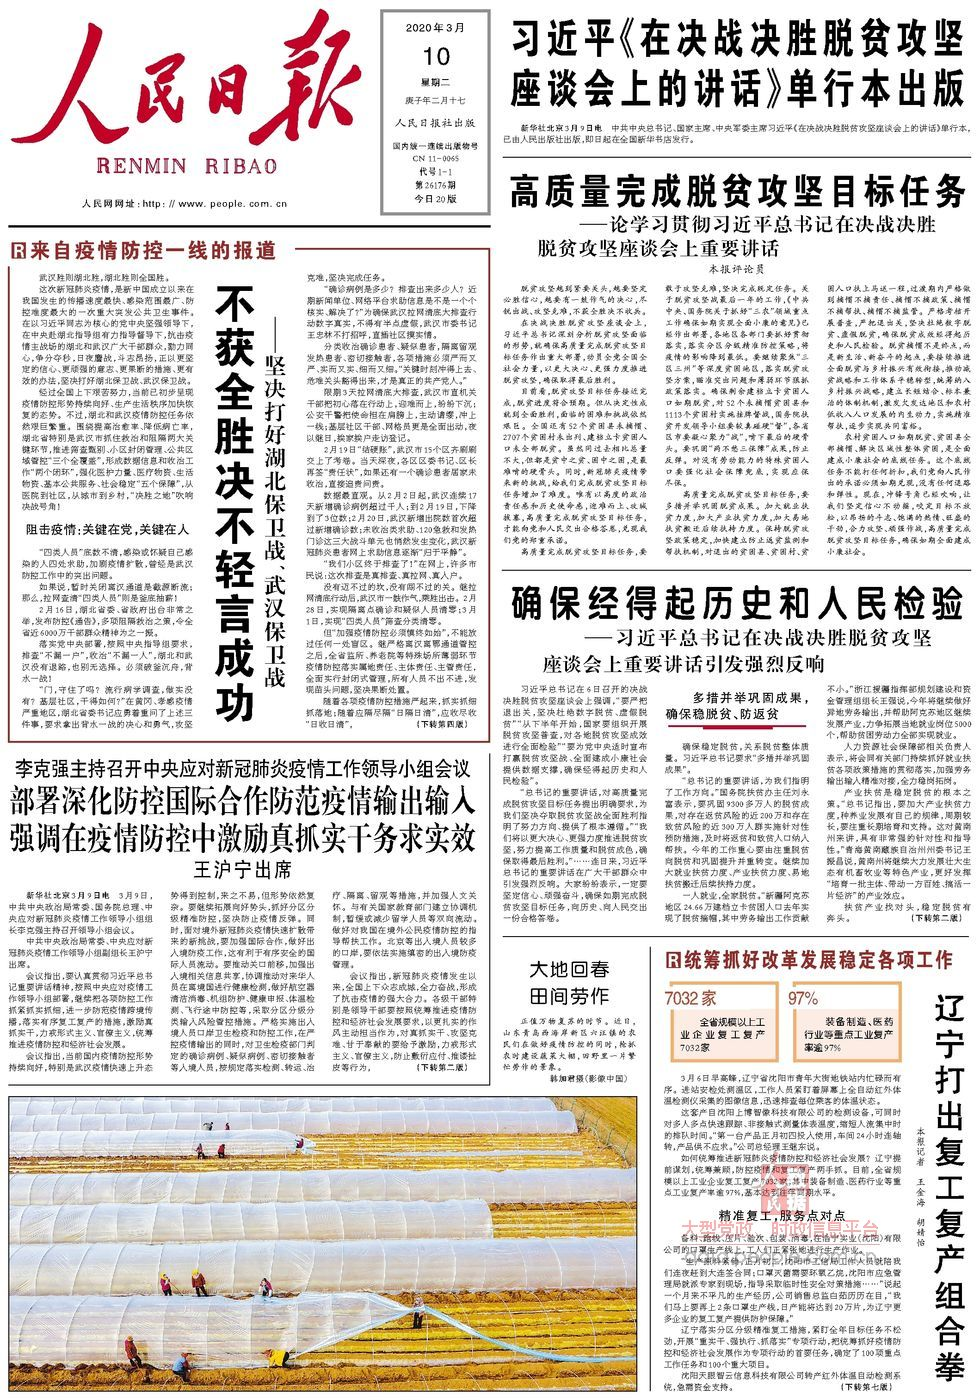pic: (5, 1091, 643, 1394)
